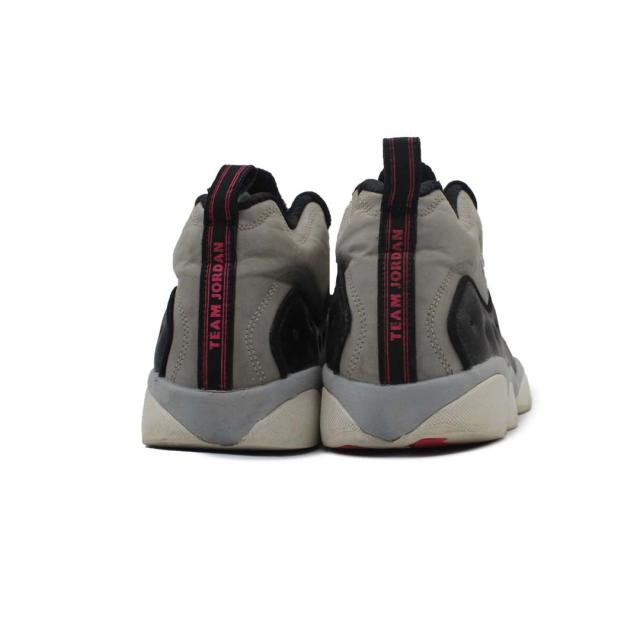heel: (329, 137, 490, 376), (158, 150, 312, 382)
midsole: (147, 372, 537, 453)
